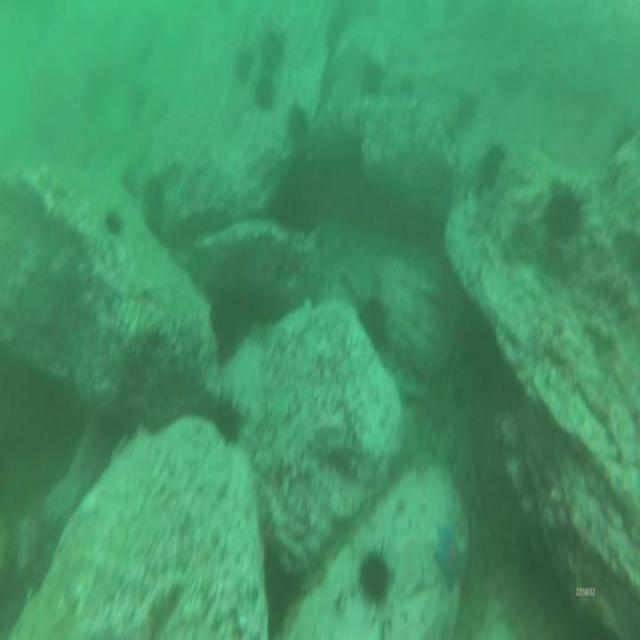echinus: (362, 548, 388, 604), (548, 190, 578, 236), (142, 178, 167, 228), (260, 27, 282, 69), (363, 298, 383, 344), (361, 58, 385, 94), (214, 400, 236, 438), (288, 104, 308, 138), (484, 145, 502, 182), (256, 76, 270, 109)
starfish: (434, 526, 464, 588), (478, 569, 503, 602)
